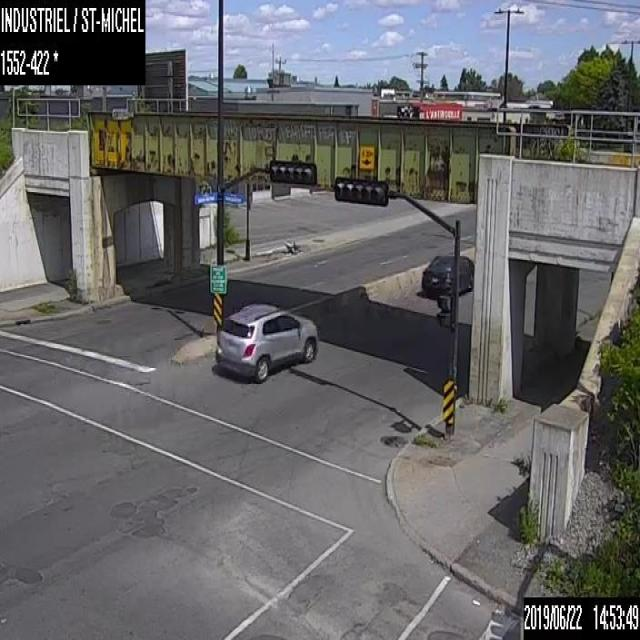vehicle: (214, 300, 318, 383), (422, 251, 473, 296)
